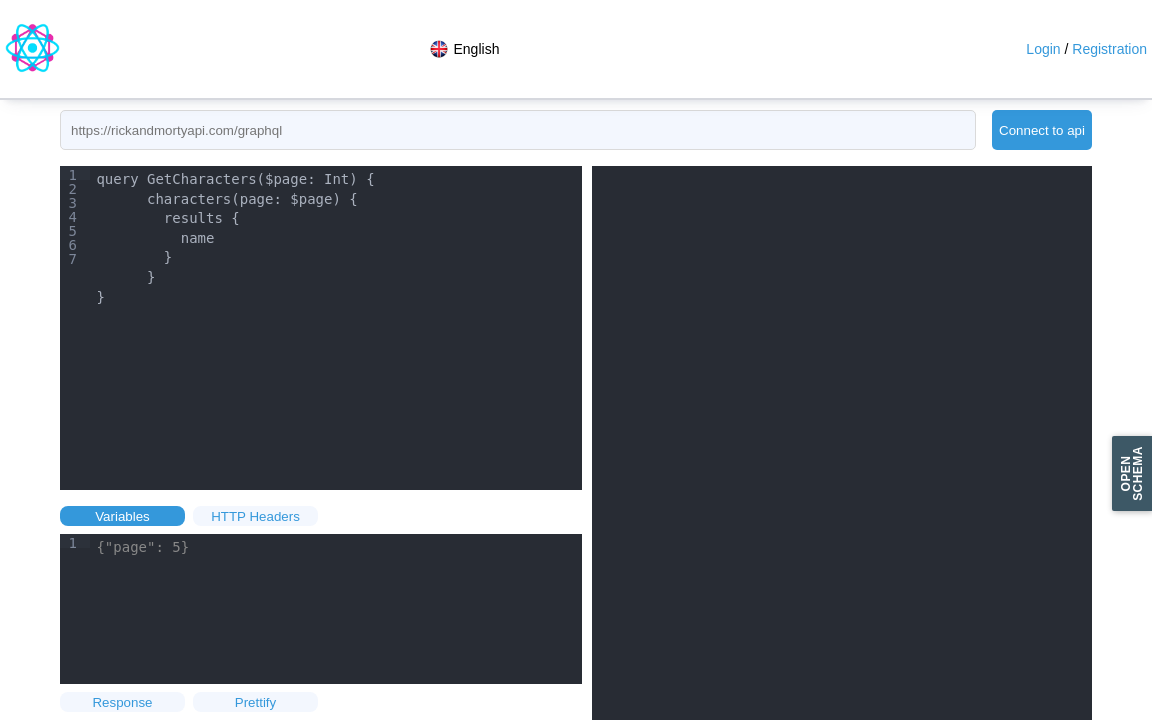
Test: GraphQL page › Button schema click correctly change name
Click the text "open schema": [1132, 474] box [1112,436,1151,511]
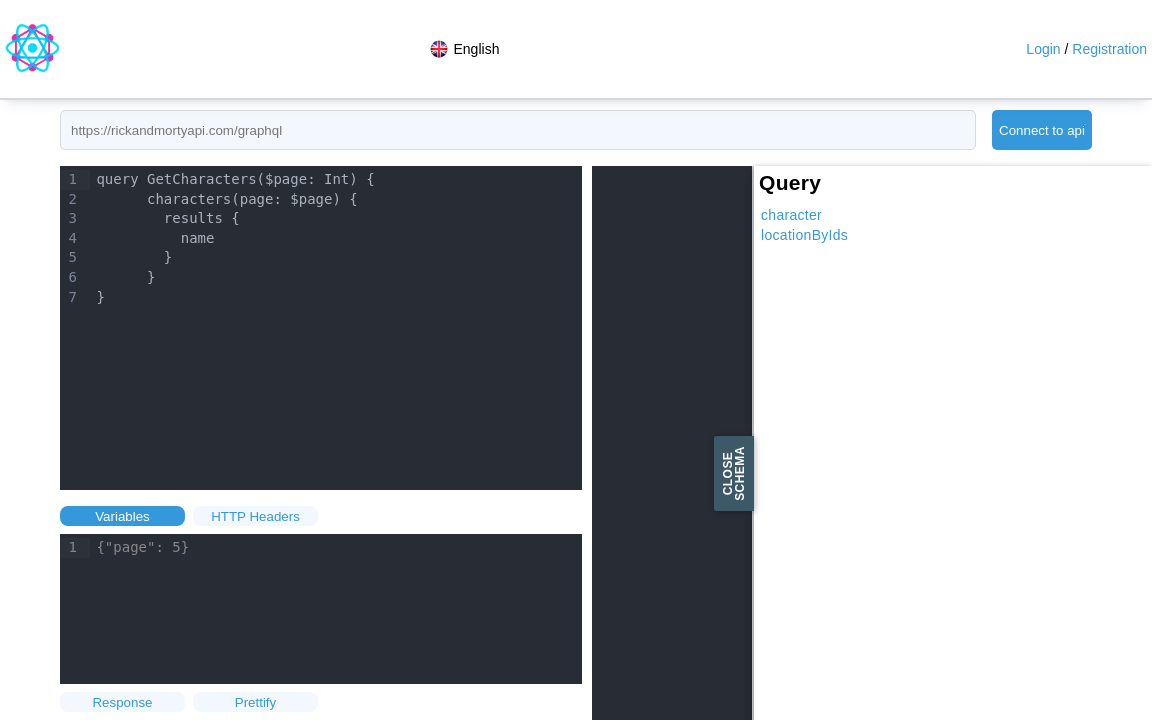
Expected: the text "close schema" is shown, [714,436,754,511]
